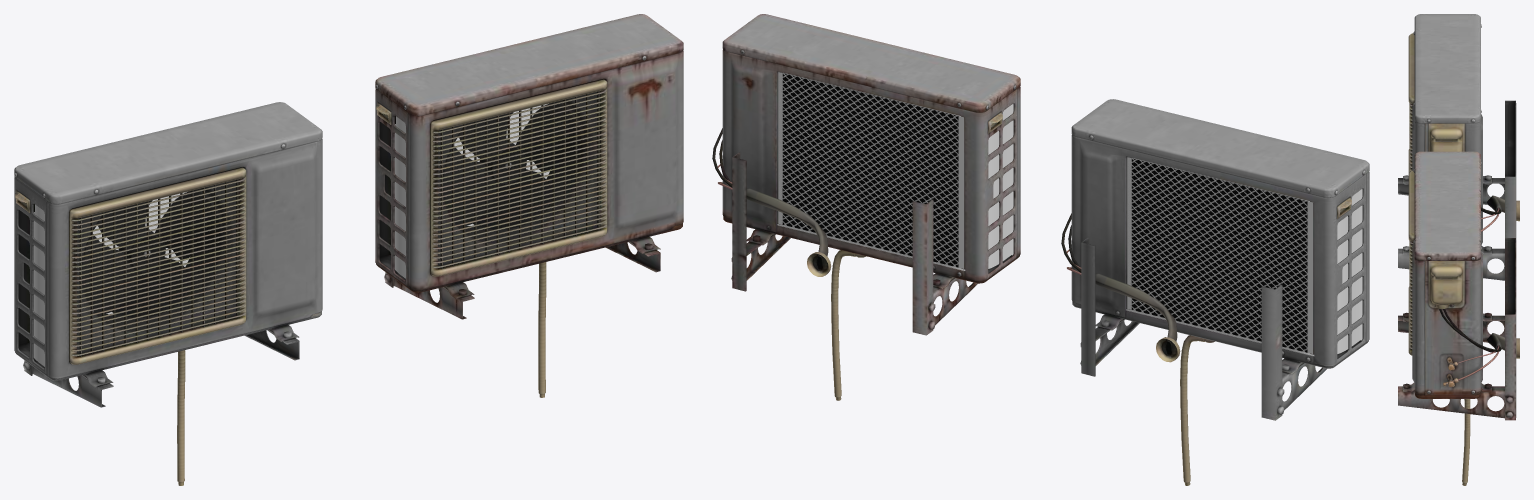
The picture shows the model from 3 angles, left to right: view 1: azimuth 30°, elevation 25°; view 2: azimuth 150°, elevation 25°; view 3: azimuth 270°, elevation 25°; orthographic projection. The views are drawn at different scales.
Visible parts, largest first — view 1: exterior_aircon_unit_rusted, exterior_aircon_unit; view 2: exterior_aircon_unit, exterior_aircon_unit_rusted; view 3: exterior_aircon_unit_rusted, exterior_aircon_unit.
Boxes of the visible parts, bbox=[...] form: exterior_aircon_unit_rusted: bbox=[375, 14, 683, 397]; exterior_aircon_unit: bbox=[14, 102, 322, 485]; exterior_aircon_unit: bbox=[1061, 99, 1369, 485]; exterior_aircon_unit_rusted: bbox=[712, 14, 1020, 400]; exterior_aircon_unit_rusted: bbox=[1398, 151, 1519, 485]; exterior_aircon_unit: bbox=[1398, 14, 1519, 280].
Size of the model in its own units: 1.8 by 0.9279 by 0.3742.
4 materials, 4 textured.
